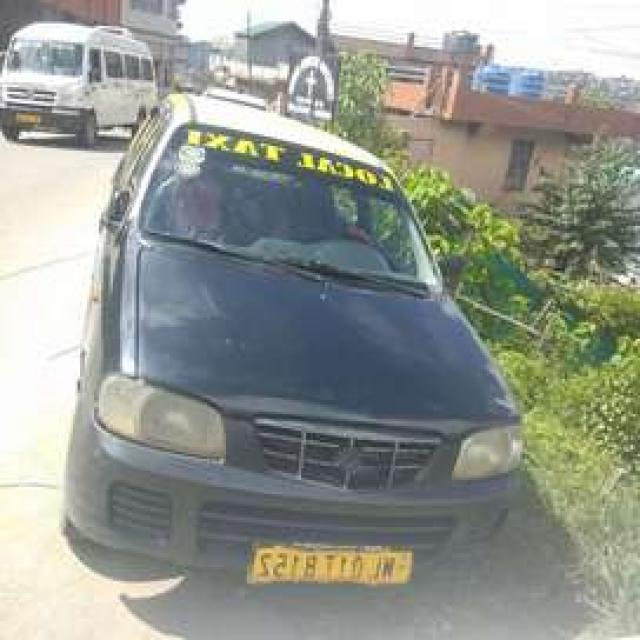license_plate: (240, 539, 419, 599)
